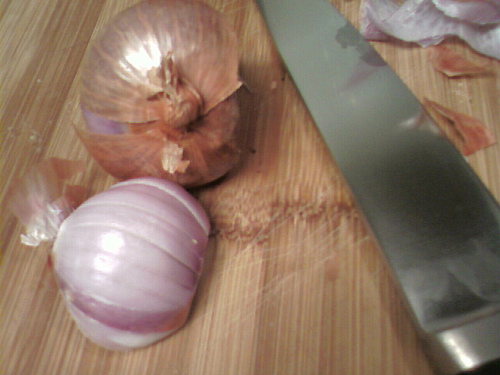onion: (69, 1, 257, 182), (50, 179, 214, 351)
